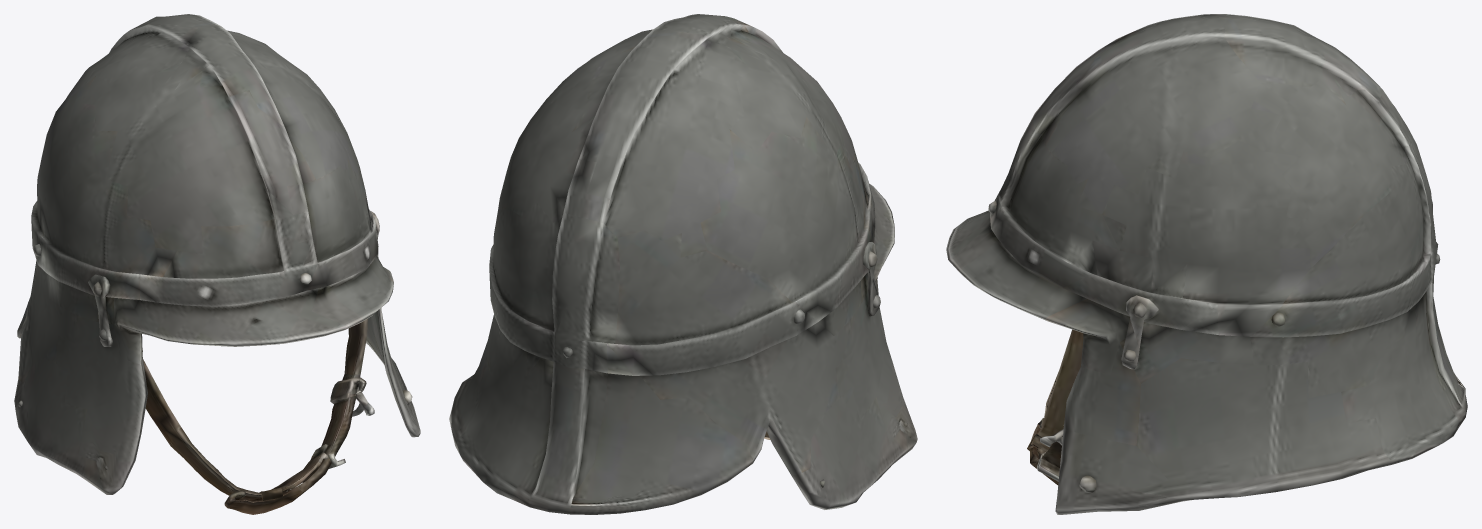
File: iron_helmet.glb
The picture shows the model from 3 angles, left to right: view 1: azimuth 30°, elevation 25°; view 2: azimuth 150°, elevation 25°; view 3: azimuth 270°, elevation 25°; orthographic projection. The views are drawn at different scales.
Parts seen in each view (by area): view 1: iron_helmet; view 2: iron_helmet; view 3: iron_helmet.
Part boxes in pixels (x1,y1,x2,y2): iron_helmet: (14,14,420,514); iron_helmet: (449,14,917,514); iron_helmet: (946,14,1467,514).
Bounding box in the file's own units: 0.2455 × 0.2924 × 0.2994.
1 material, 1 textured.
